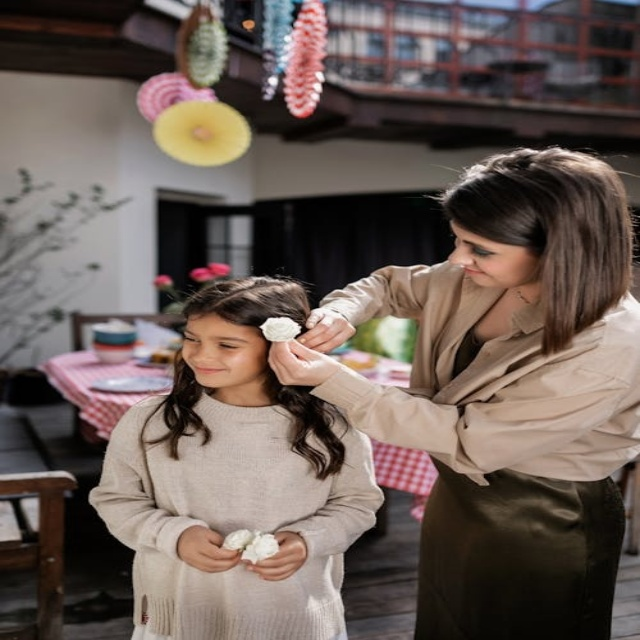Sin_gafas: (448, 225, 513, 261), (179, 328, 252, 353)
Sin_guantes: (268, 336, 337, 388), (180, 521, 239, 573), (246, 533, 308, 582), (297, 310, 356, 352)
Sin_mascara: (184, 361, 232, 386), (460, 263, 508, 288)
